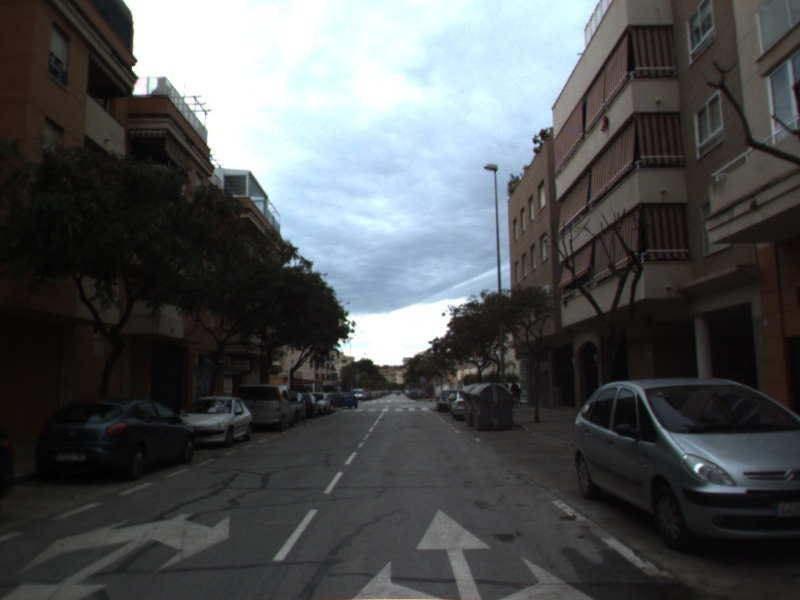STRAIGHT_LEFT_RIGHT: (345, 504, 602, 600)
